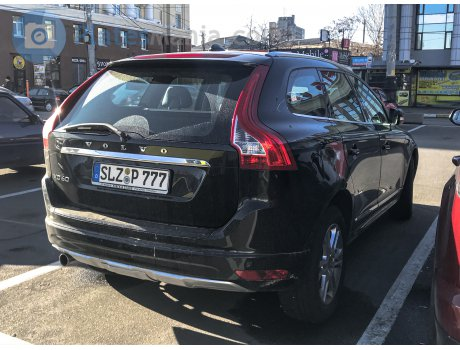License Plates: (100, 161, 162, 186)
